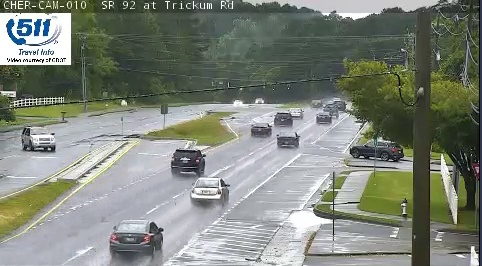car: (109, 220, 164, 252), (190, 178, 229, 201), (170, 149, 206, 171), (277, 132, 299, 146), (250, 122, 273, 135), (273, 111, 292, 126), (316, 112, 332, 123), (288, 107, 303, 117)
